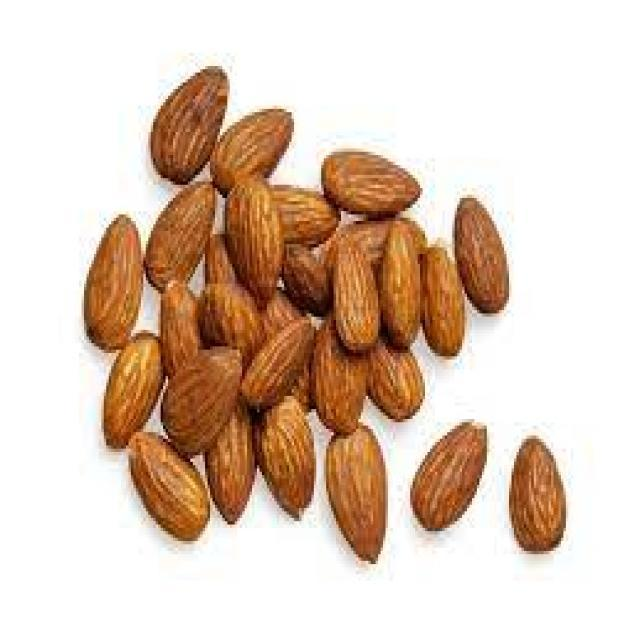Frutta secca: (77, 63, 571, 581)
